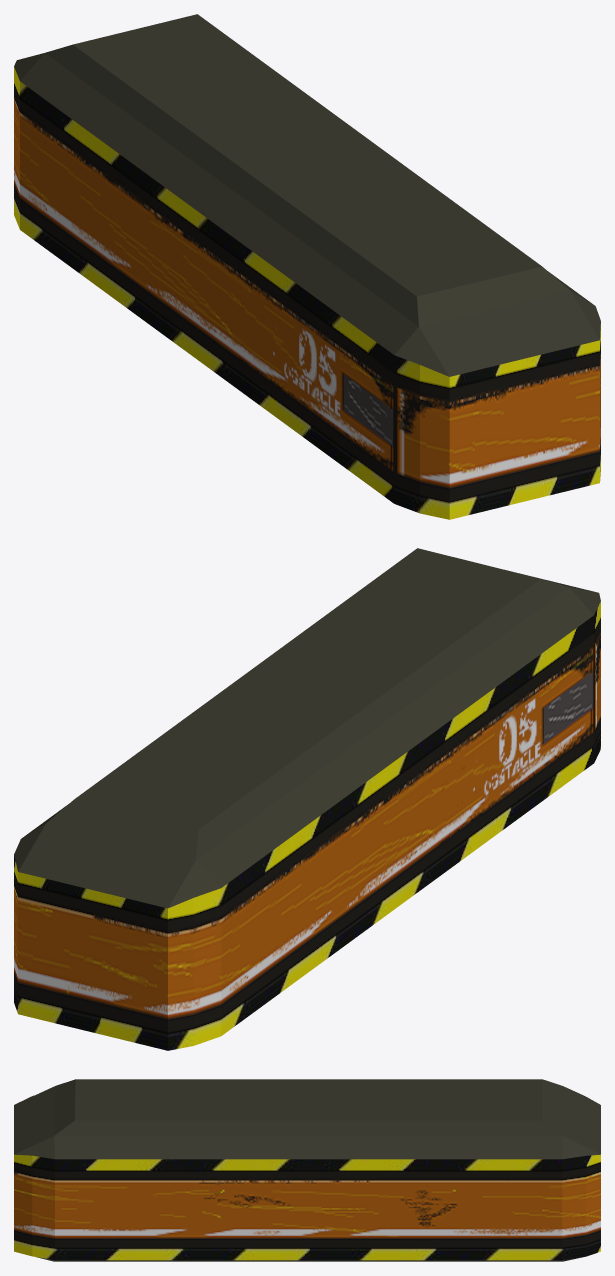
File: rectangulo_bajo.fbx
The picture shows the model from 3 angles, top to bottom: view 1: azimuth 30°, elevation 25°; view 2: azimuth 150°, elevation 25°; view 3: azimuth 270°, elevation 25°; orthographic projection. The views are drawn at different scales.
Parts seen in each view (by area): view 1: Cube; view 2: Cube; view 3: Cube.
Part boxes in pixels (left/top/right/bottom): Cube: left=14, top=14, right=600, bottom=519; Cube: left=14, top=548, right=600, bottom=1050; Cube: left=14, top=1079, right=600, bottom=1261.
Size of the model in its own units: 1.06 by 1.02 by 3.96.
1 material, 1 textured.
